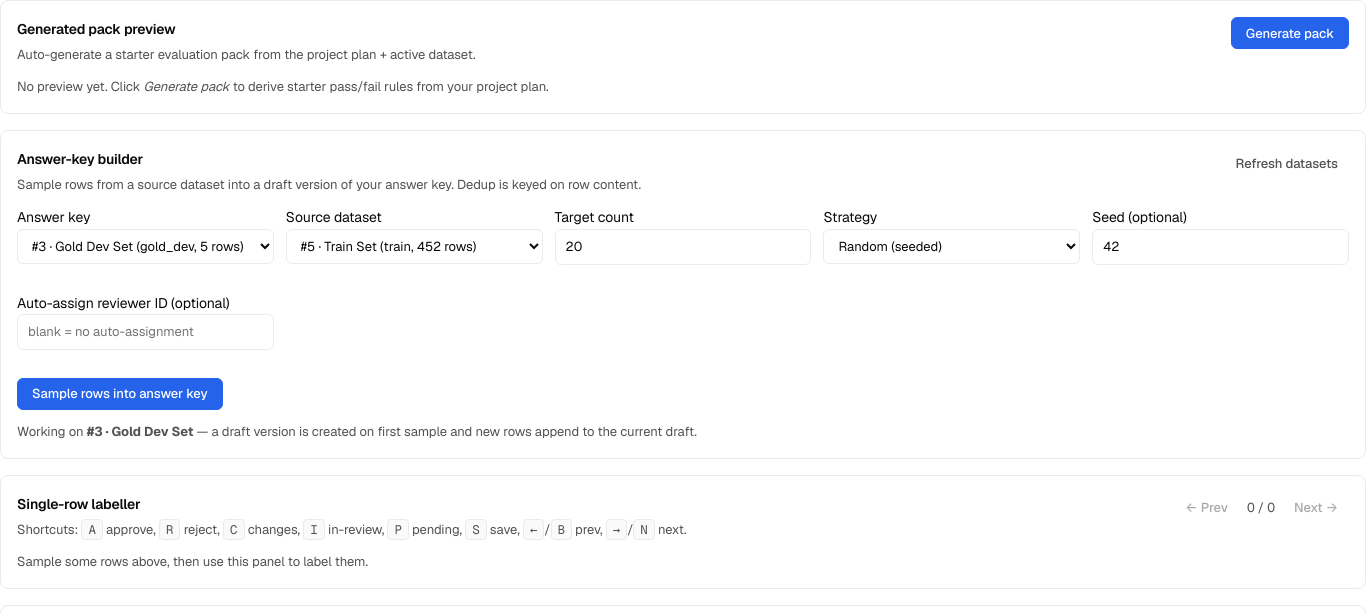
Scenario: GoldSetWorkbenchPanel › auto-picks a gold set + source, samples rows, and opens labeller
Click the button "Sample rows into answer key".
click(120, 394)  # box [17, 378, 222, 410]
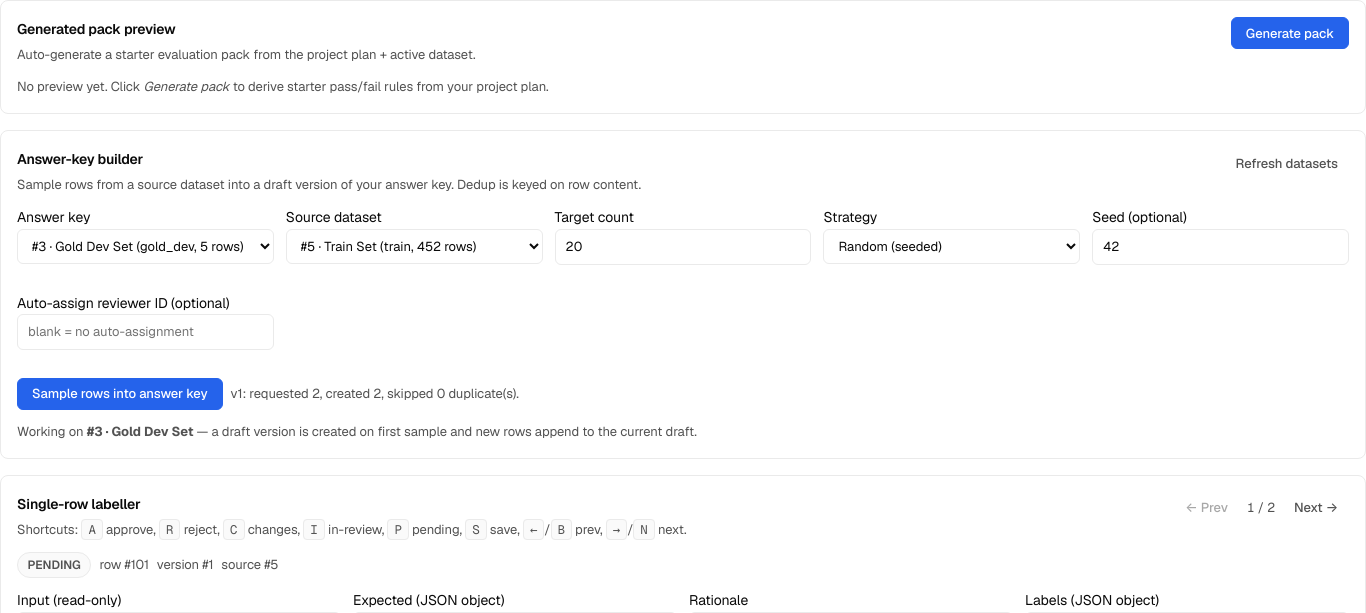
Now the text "row #101" is shown, box [99, 555, 149, 575]
Now the text "1 / 2" is shown, box [1247, 498, 1275, 518]
